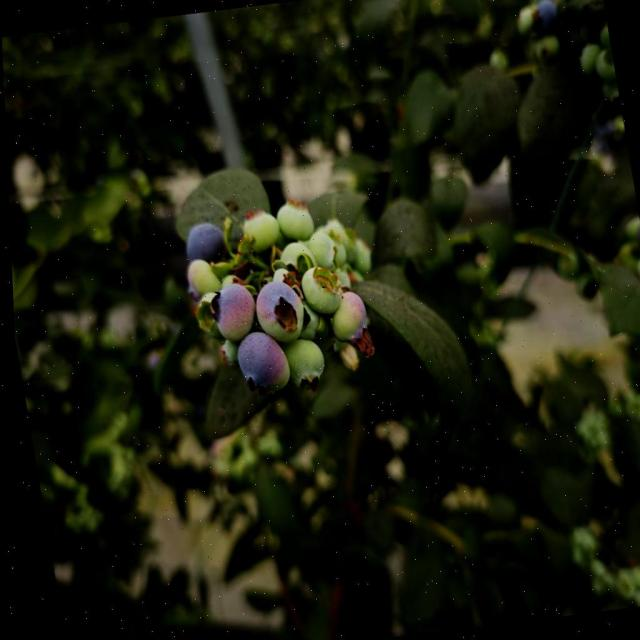RipeBlueBerry: (177, 218, 225, 265)
Semi-RipeBlueBerry: (228, 324, 292, 399), (246, 278, 306, 348), (202, 278, 258, 344)
UnripeBlueBerry: (295, 260, 344, 318)
